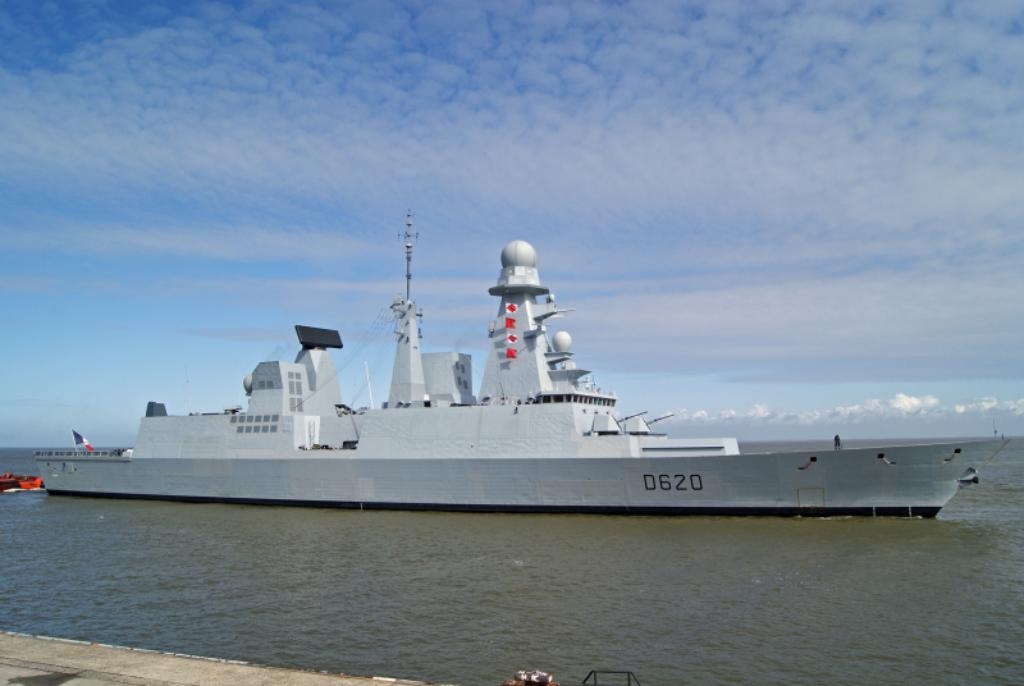Warship: (30, 207, 1012, 519)
